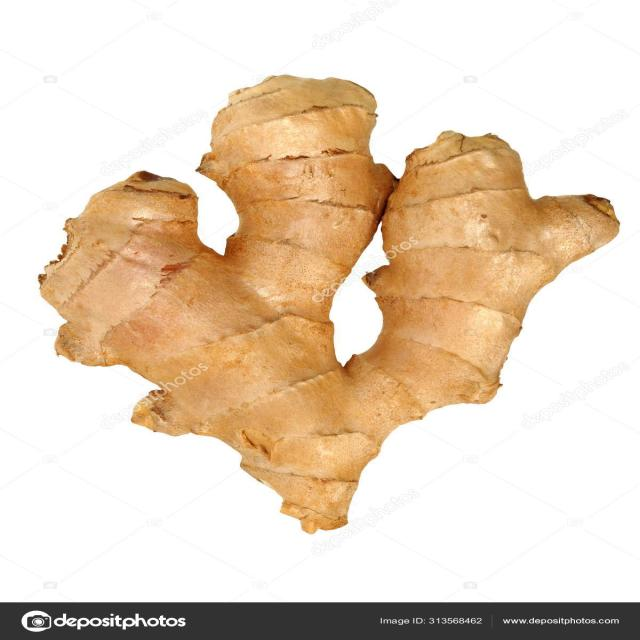ginger-root: (16, 56, 640, 529)
